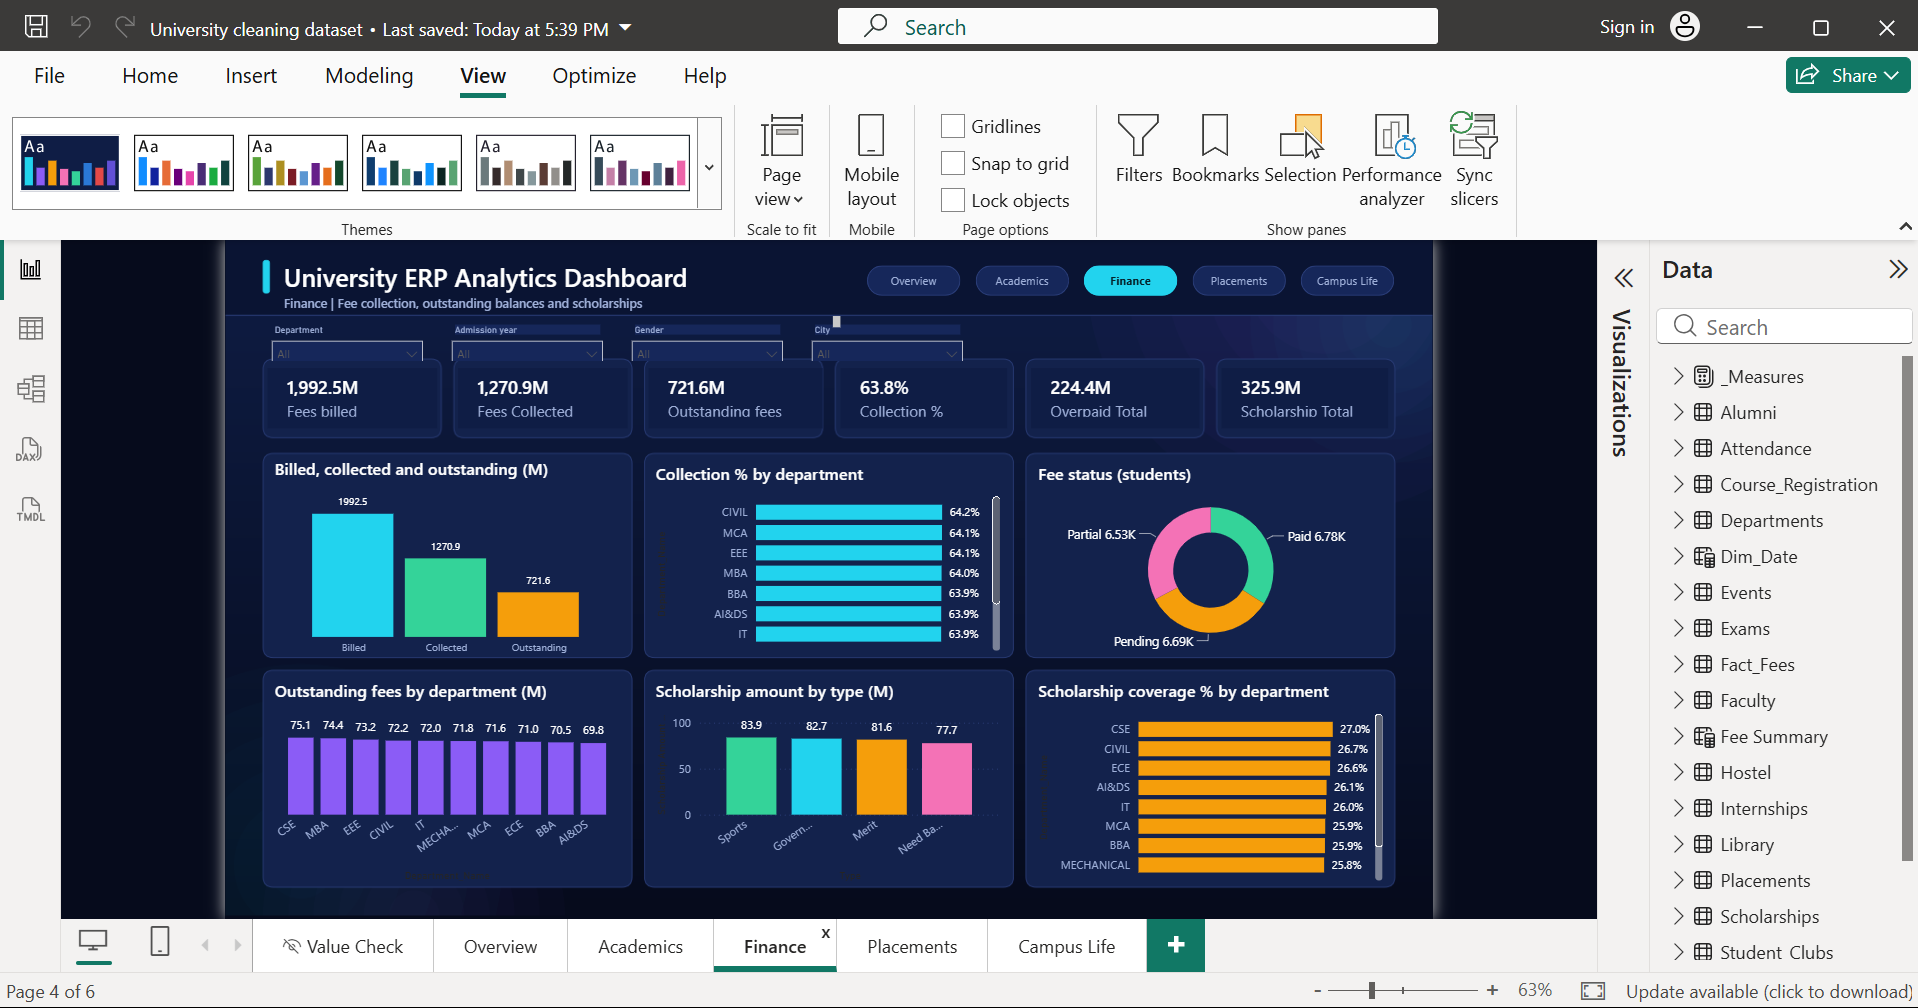

The dashboard page shown, as its layout file describes it:
{"tool":"powerbi","page":{"name":"Finance","canvas":[1280,720],"ordinal":3},"visuals":[{"type":"textbox","title":"University ERP Analytics Dashboard","box":[57,20,600,40],"z":0},{"type":"slicer","fields":{"Values":["Students.Admission_Year"]},"box":[231,84,180,44],"z":1000},{"type":"slicer","fields":{"Values":["Students.Gender"]},"box":[421,84,180,44],"z":2000},{"type":"slicer","fields":{"Values":["Students.City"]},"box":[612,84,180,44],"z":3000},{"type":"clusteredBarChart","title":"Collection % by department","fields":{"Category":["Departments.Department_Name"],"Y":["_Measures.Collection %"]},"box":[452,236,375,205],"z":4000},{"type":"donutChart","title":"Fee status (students)","fields":{"Category":["Fact_Fees.Fee_Status_Clean"],"Y":["CountNonNull(Fact_Fees.Fee_ID)"]},"box":[857,236,375.4,205.2],"z":5000},{"type":"clusteredColumnChart","title":"Outstanding fees by department (M)","fields":{"Y":["_Measures.Outstanding Fees (M)"],"Category":["Departments.Department_Name"]},"box":[48,466,375.4,218],"z":6000},{"type":"clusteredColumnChart","title":"Scholarship amount by type (M)","fields":{"Category":["Scholarships.Type"],"Y":["_Measures.Scholarship Amount (M)"]},"box":[452,466,375,218],"z":7000},{"type":"clusteredBarChart","title":"Scholarship coverage % by department","fields":{"Y":["_Measures.Scholarship Coverage %"],"Category":["Departments.Department_Name"]},"box":[857,466,375,218],"z":8000},{"type":"textbox","title":"Finance | Fee collection, outstanding balances and scholarships","box":[57,58,600,40],"z":9000},{"type":"pageNavigator","box":[680,27,560,32],"z":10000},{"type":"slicer","fields":{"Values":["Departments.Department_Name"]},"box":[40,84,180,44],"z":11000},{"type":"clusteredColumnChart","title":"Billed, collected and outstanding (M)","fields":{"Category":["Fee Summary.Item"],"Y":["_Measures.Fee Summary Value (M)"]},"box":[47.7,230.6,373.8,217.9],"z":12000},{"type":"cardVisual","fields":{"Data":["_Measures.Billed (Text)"]},"box":[39.8,130.4,190.9,74.8],"z":13000},{"type":"cardVisual","fields":{"Data":["_Measures.Collected (Text)"]},"box":[241.8,130.4,190.9,74.8],"z":14000},{"type":"cardVisual","fields":{"Data":["_Measures.Outstanding (Text)"]},"box":[443.8,130.4,195.6,74.8],"z":15000},{"type":"cardVisual","fields":{"Data":["_Measures.Collection %"]},"box":[647.4,130.4,187.7,74.8],"z":16000},{"type":"cardVisual","fields":{"Data":["_Measures.Overpaid (Text)"]},"box":[849.4,130.4,189.3,74.8],"z":17000},{"type":"cardVisual","fields":{"Data":["_Measures.Scholarship Total (M)"]},"box":[1051.4,130.4,187.7,74.8],"z":18000}]}

Visuals, with their boxes on the page's 1280x720 design canvas (x1, y1, x2, y2). These are canvas units, not pixel positions in the 1918x1008 screenshot, which may show the page scaled, cropped or inside an application window:
"University ERP Analytics Dashboard" textbox: (57, 20, 657, 60)
slicer - Students.Admission_Year: (231, 84, 411, 128)
slicer - Students.Gender: (421, 84, 601, 128)
slicer - Students.City: (612, 84, 792, 128)
"Collection % by department" clusteredBarChart: (452, 236, 827, 441)
"Fee status (students)" donutChart: (857, 236, 1232, 441)
"Outstanding fees by department (M)" clusteredColumnChart: (48, 466, 423, 684)
"Scholarship amount by type (M)" clusteredColumnChart: (452, 466, 827, 684)
"Scholarship coverage % by department" clusteredBarChart: (857, 466, 1232, 684)
"Finance | Fee collection, outstanding balances and scholarships" textbox: (57, 58, 657, 98)
pageNavigator: (680, 27, 1240, 59)
slicer - Departments.Department_Name: (40, 84, 220, 128)
"Billed, collected and outstanding (M)" clusteredColumnChart: (48, 231, 422, 448)
cardVisual - _Measures.Billed (Text): (40, 130, 231, 205)
cardVisual - _Measures.Collected (Text): (242, 130, 433, 205)
cardVisual - _Measures.Outstanding (Text): (444, 130, 639, 205)
cardVisual - _Measures.Collection %: (647, 130, 835, 205)
cardVisual - _Measures.Overpaid (Text): (849, 130, 1039, 205)
cardVisual - _Measures.Scholarship Total (M): (1051, 130, 1239, 205)
